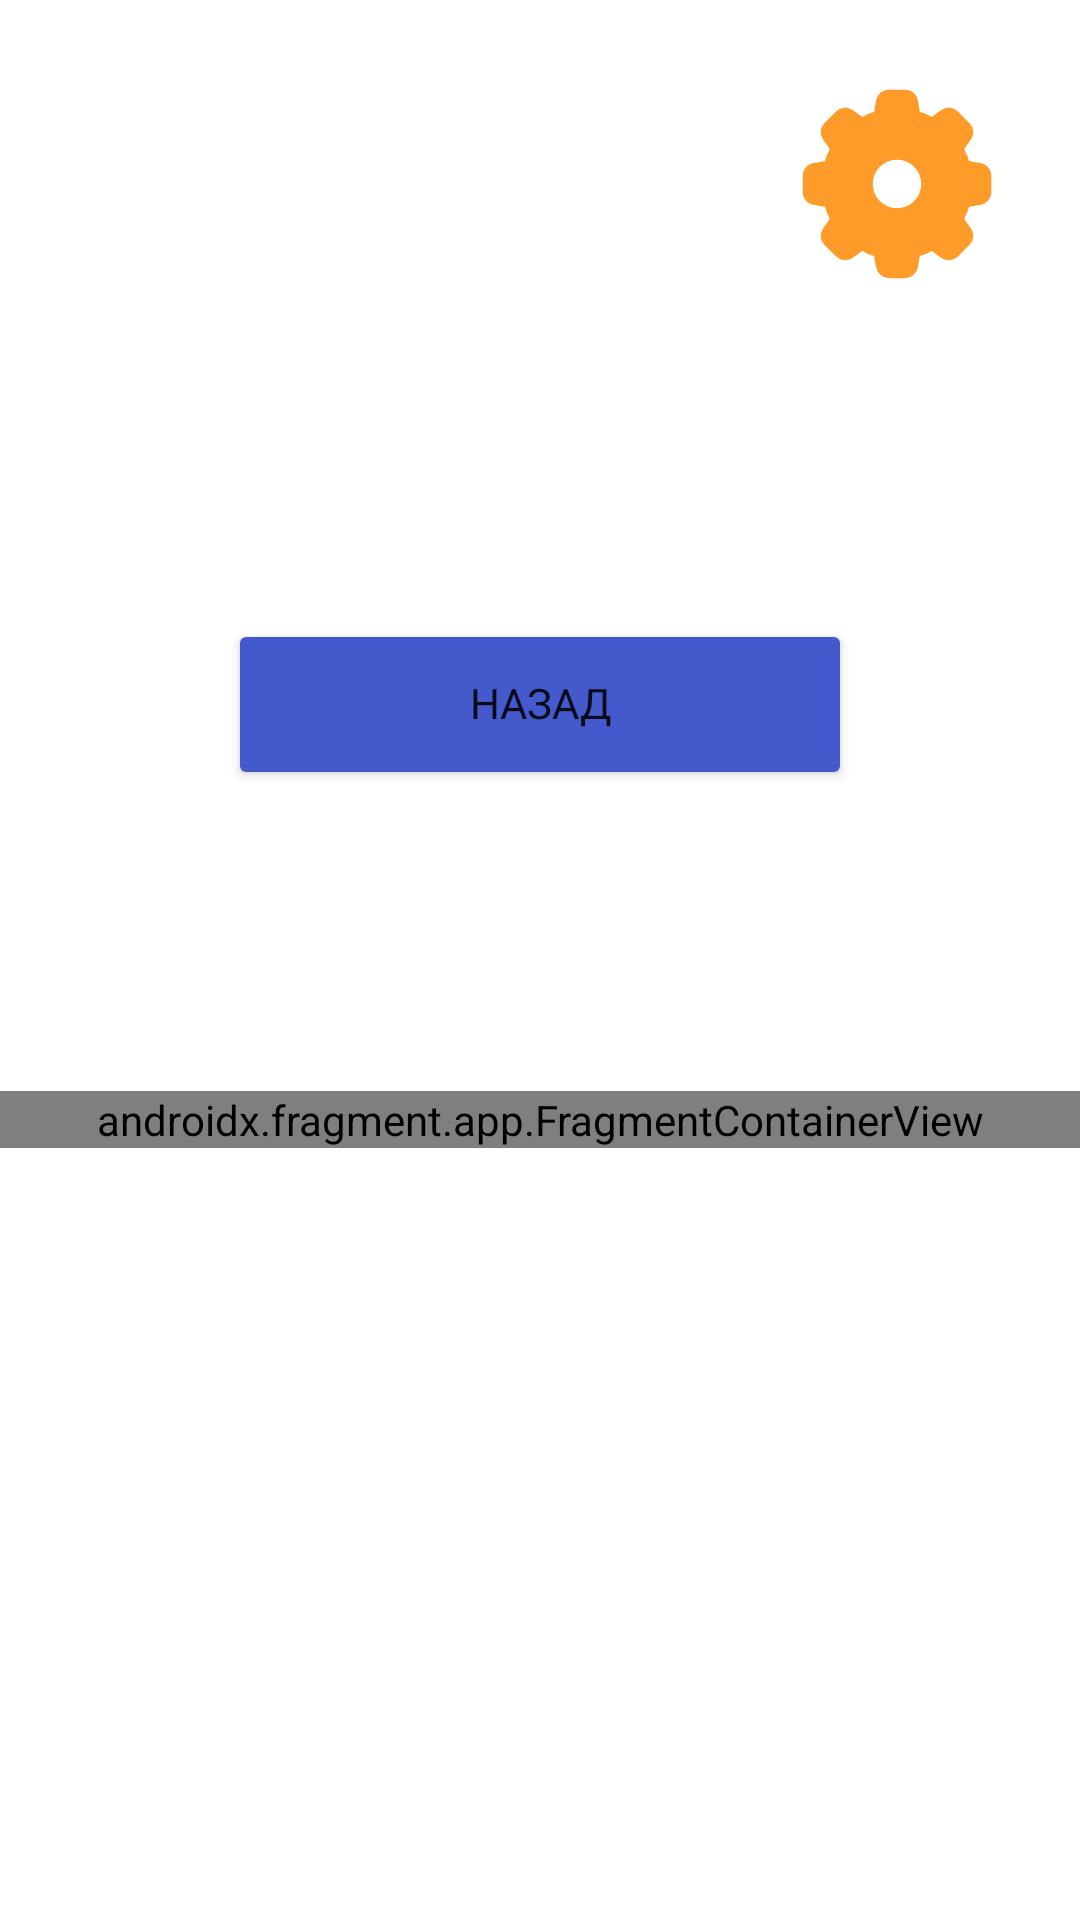

Screen size 1080 x 1920. Icon name, then its center in pixels as point (x, y):
preferences: point (897, 184)
